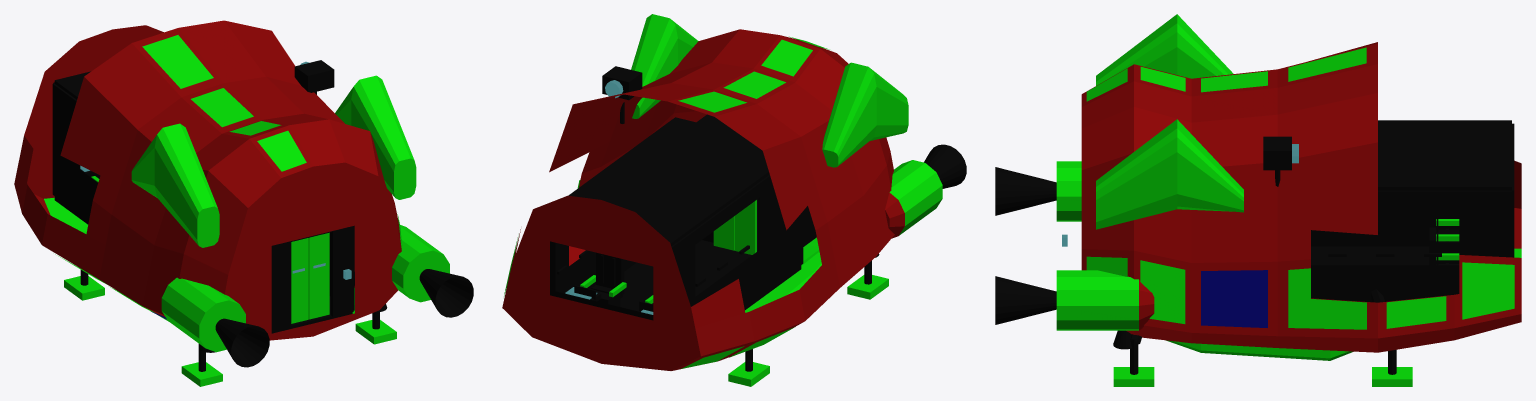
File: moth.glb
The picture shows the model from 3 angles, left to right: view 1: azimuth 30°, elevation 25°; view 2: azimuth 150°, elevation 25°; view 3: azimuth 270°, elevation 25°; orthographic projection. The views are drawn at different scales.
Parts seen in each view (by area): view 1: expedition_moth:lifting_body, expedition_moth:scout_aft_ridge_-1, expedition_moth:service_panels_0, expedition_moth:scout_aft_ridge_1, expedition_moth:room_eva, expedition_moth:drive_housing_-1, expedition_moth:room_bridge, expedition_moth:drive_housing_1, expedition_moth:engine_0, expedition_moth:engine_1, expedition_moth:door_eva-outer_1, expedition_moth:door_eva-outer_-1 (+5 smaller); view 2: expedition_moth:lifting_body, expedition_moth:ceiling_bridge, expedition_moth:room_bridge, expedition_moth:scout_aft_ridge_-1, expedition_moth:service_panels_0, expedition_moth:scout_aft_ridge_1, expedition_moth:drive_housing_-1, expedition_moth:seat_1, expedition_moth:engine_0, expedition_moth:survey_instruments, expedition_moth:ventral_sensor_cheek_-1, expedition_moth:door_eva-inner_-1 (+4 smaller); view 3: expedition_moth:lifting_body, expedition_moth:service_panels_0, expedition_moth:room_bridge, expedition_moth:ceiling_bridge, expedition_moth:scout_aft_ridge_1, expedition_moth:drive_housing_1, expedition_moth:scout_aft_ridge_-1, expedition_moth:engine_1, expedition_moth:engine_0, expedition_moth:ventral_sensor_cheek_1, expedition_moth:drive_housing_-1, expedition_moth:survey_instruments (+4 smaller).
Part boxes in pixels (left/top/right/bottom): expedition_moth:lifting_body: left=14, top=20, right=401, bottom=340; expedition_moth:scout_aft_ridge_-1: left=131, top=123, right=219, bottom=247; expedition_moth:service_panels_0: left=55, top=35, right=402, bottom=319; expedition_moth:scout_aft_ridge_1: left=335, top=75, right=416, bottom=199; expedition_moth:room_eva: left=271, top=225, right=354, bottom=333; expedition_moth:drive_housing_-1: left=161, top=277, right=245, bottom=352; expedition_moth:room_bridge: left=52, top=82, right=100, bottom=224; expedition_moth:drive_housing_1: left=392, top=225, right=449, bottom=302; expedition_moth:engine_0: left=215, top=318, right=269, bottom=367; expedition_moth:engine_1: left=419, top=269, right=473, bottom=317; expedition_moth:door_eva-outer_1: left=308, top=232, right=329, bottom=319; expedition_moth:door_eva-outer_-1: left=291, top=238, right=308, bottom=323; expedition_moth:lifting_body: left=502, top=29, right=894, bottom=370; expedition_moth:ceiling_bridge: left=568, top=117, right=769, bottom=245; expedition_moth:room_bridge: left=550, top=174, right=803, bottom=320; expedition_moth:scout_aft_ridge_-1: left=822, top=62, right=908, bottom=167; expedition_moth:service_panels_0: left=504, top=36, right=829, bottom=368; expedition_moth:scout_aft_ridge_1: left=631, top=14, right=698, bottom=118; expedition_moth:drive_housing_-1: left=885, top=160, right=942, bottom=238; expedition_moth:seat_1: left=580, top=252, right=626, bottom=306; expedition_moth:engine_0: left=924, top=144, right=966, bottom=188; expedition_moth:survey_instruments: left=602, top=66, right=642, bottom=123; expedition_moth:ventral_sensor_cheek_-1: left=745, top=250, right=821, bottom=312; expedition_moth:door_eva-inner_-1: left=734, top=200, right=756, bottom=254; expedition_moth:lifting_body: left=1081, top=42, right=1521, bottom=352; expedition_moth:service_panels_0: left=1086, top=47, right=1514, bottom=329; expedition_moth:room_bridge: left=1311, top=123, right=1514, bottom=302; expedition_moth:ceiling_bridge: left=1378, top=120, right=1511, bottom=190; expedition_moth:scout_aft_ridge_1: left=1096, top=119, right=1243, bottom=229; expedition_moth:drive_housing_1: left=1056, top=270, right=1154, bottom=330; expedition_moth:scout_aft_ridge_-1: left=1096, top=14, right=1233, bottom=85; expedition_moth:engine_1: left=995, top=276, right=1056, bottom=324; expedition_moth:engine_0: left=995, top=167, right=1056, bottom=215; expedition_moth:ventral_sensor_cheek_1: left=1166, top=340, right=1353, bottom=360; expedition_moth:drive_housing_-1: left=1056, top=161, right=1081, bottom=221; expedition_moth:survey_instruments: left=1263, top=136, right=1298, bottom=186.
Size of the model in its own units: 7.2 by 6.24 by 11.
